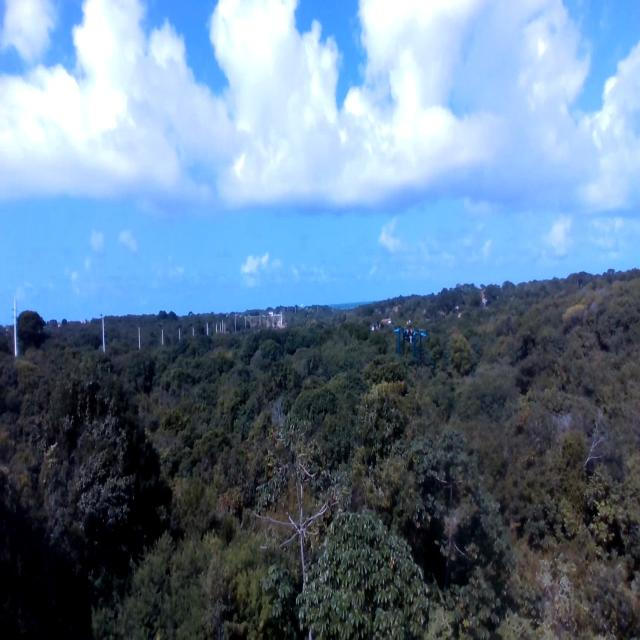-uav-: (389, 312, 438, 378)
